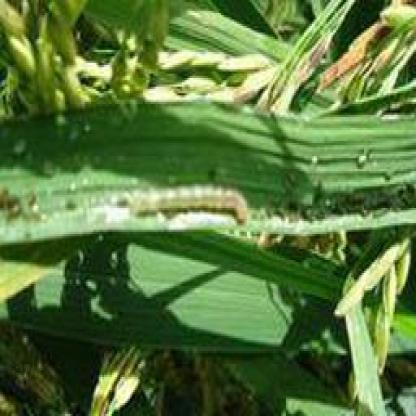leaf-folder: (127, 170, 258, 238)
